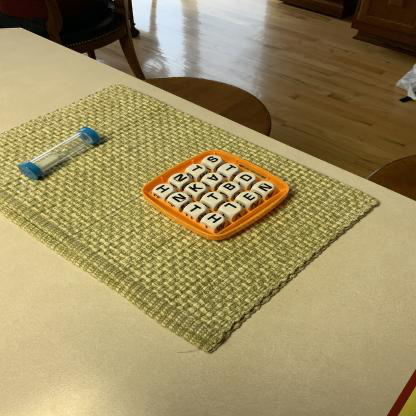a: (204, 174, 223, 185)
b: (222, 183, 240, 194)
d: (238, 173, 256, 183)
e: (239, 193, 259, 204)
h: (205, 214, 225, 226), (155, 185, 175, 196)
k: (187, 184, 207, 194)
l: (222, 203, 242, 215)
n: (255, 182, 275, 194), (170, 194, 189, 205), (172, 174, 190, 185)
s: (205, 156, 222, 165)
t: (187, 203, 207, 215), (204, 193, 224, 204), (188, 165, 207, 175), (221, 165, 239, 175)
